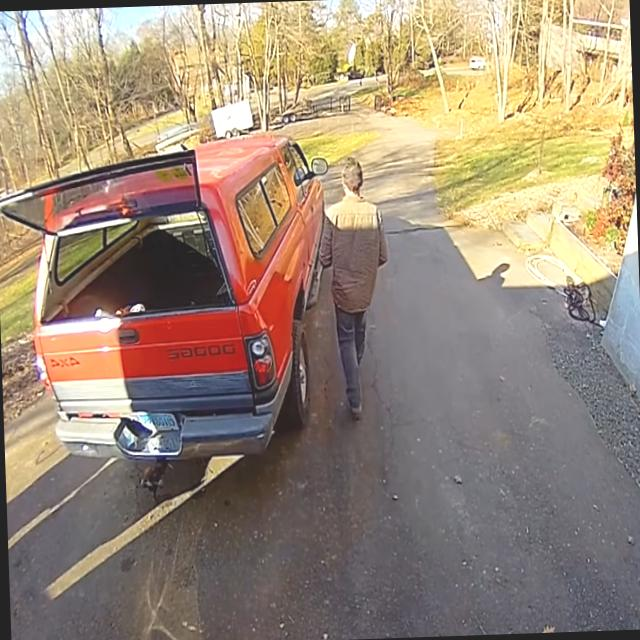person: (316, 154, 394, 414)
